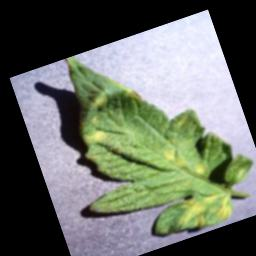Leaf_Mold: (170, 186, 238, 234), (157, 130, 210, 187)
